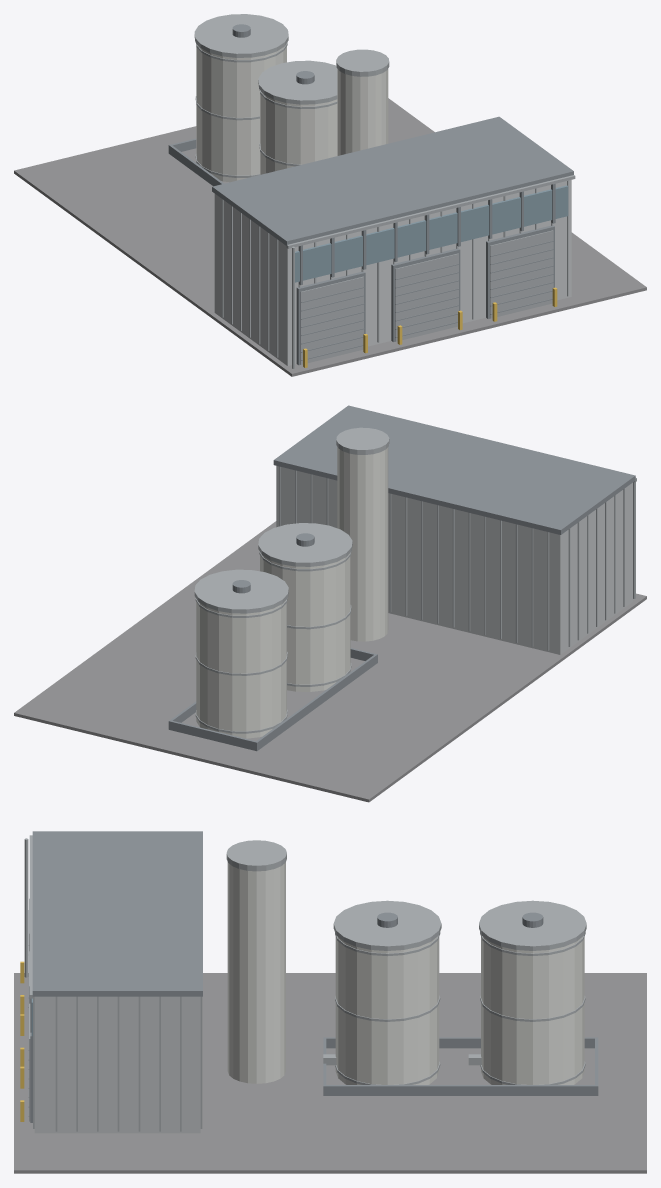
File: industrial_3x4_c.glb
3 renders of one model, top to bottom at view 1: azimuth 30°, elevation 25°; view 2: azimuth 150°, elevation 25°; view 3: azimuth 270°, elevation 25°, orthographic. The views are drawn at different scales.
Parts seen in each view (by area): view 1: industrial_3x4_c_yard; view 2: industrial_3x4_c_yard; view 3: industrial_3x4_c_yard.
Boxes of the visible parts, left/top/right/bottom form: industrial_3x4_c_yard: left=14, top=14, right=646, bottom=376; industrial_3x4_c_yard: left=14, top=405, right=646, bottom=802; industrial_3x4_c_yard: left=14, top=831, right=646, bottom=1173.
Size of the model in its own units: 22.5 by 11.8 by 30.5.
